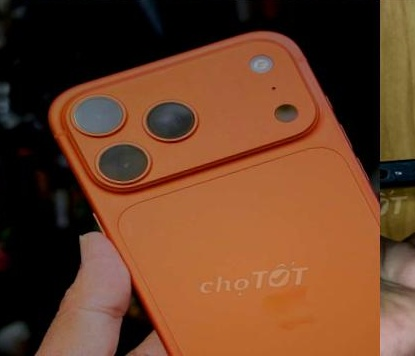scratch: (380, 152, 415, 189)
